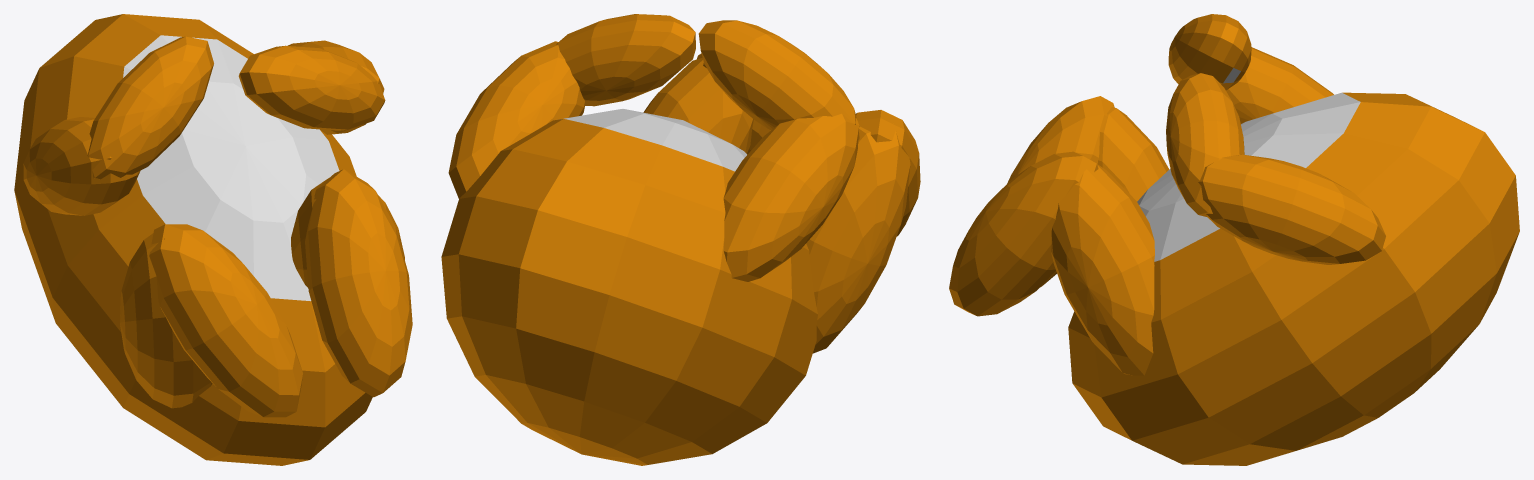
The picture shows the model from 3 angles, left to right: view 1: azimuth 30°, elevation 25°; view 2: azimuth 150°, elevation 25°; view 3: azimuth 270°, elevation 25°; orthographic projection. The views are drawn at different scales.
Parts seen in each view (by area): view 1: node_MeshObject-485532672-PolyPaper21; view 2: node_MeshObject-485532672-PolyPaper21; view 3: node_MeshObject-485532672-PolyPaper21.
Boxes of the visible parts, box(x1,y1,x2,y2) form: node_MeshObject-485532672-PolyPaper21: box(14, 14, 412, 465); node_MeshObject-485532672-PolyPaper21: box(441, 14, 920, 465); node_MeshObject-485532672-PolyPaper21: box(949, 14, 1519, 465).
Size of the model in its own units: 0.3875 by 0.4728 by 0.6022.
